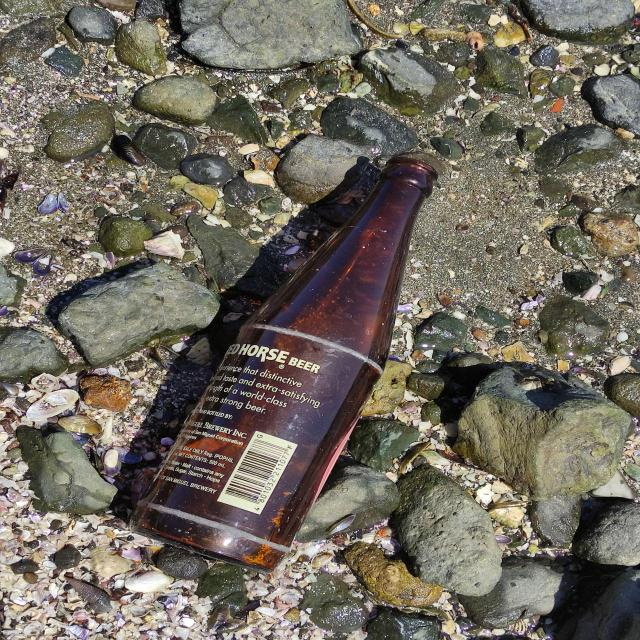glass_waste: (125, 152, 443, 576)
